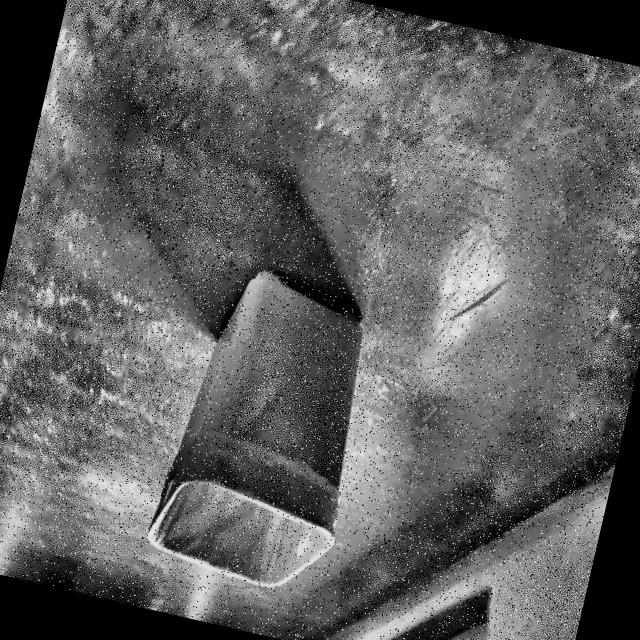Dustbin: (124, 226, 416, 625)
